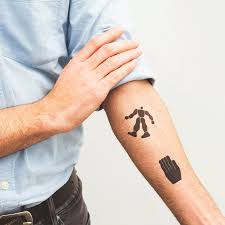hand: (46, 21, 144, 138)
